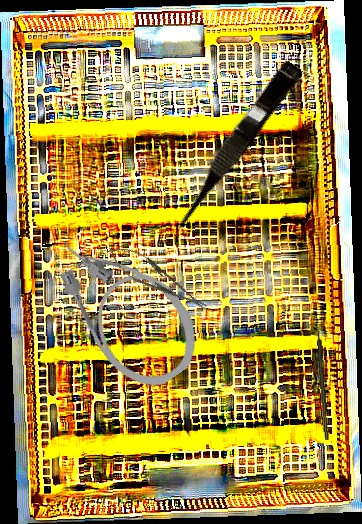Cannula: (38, 206, 214, 403)
Hook Surgical: (315, 322, 330, 441)
Micro Scissor: (161, 56, 305, 238)
Needle Holder: (101, 237, 214, 321)
